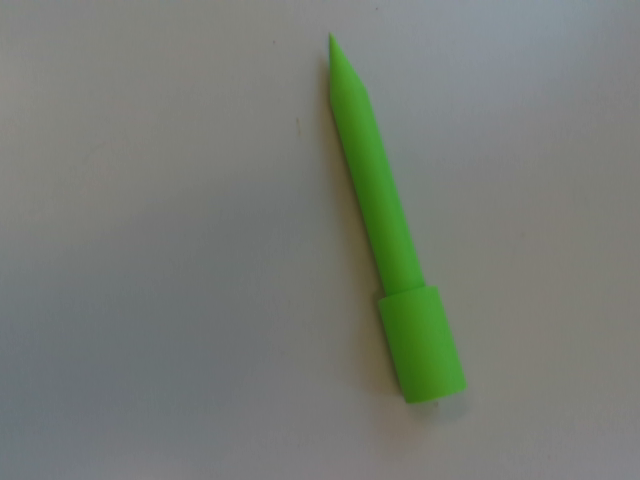Probe: (322, 24, 479, 413)
